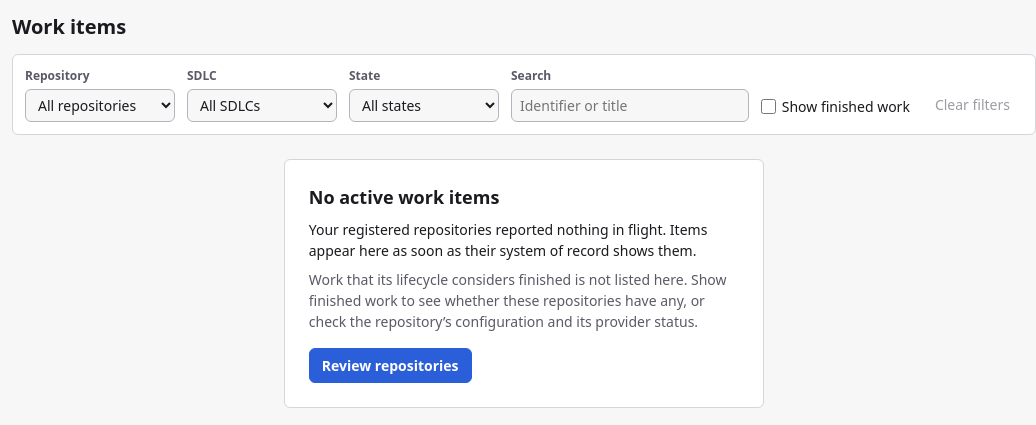
Test: the item list › tells an engineer whose work has all finished that nothing is in flight, rather than that nothing is here
Check: the heading "No active work items" is shown, box [309, 185, 499, 209]
Check: the text "nothing in flight" is shown, box [309, 220, 707, 260]
Click the checkbox labelled "Show finished work".
click(768, 106)  # box [761, 99, 776, 114]
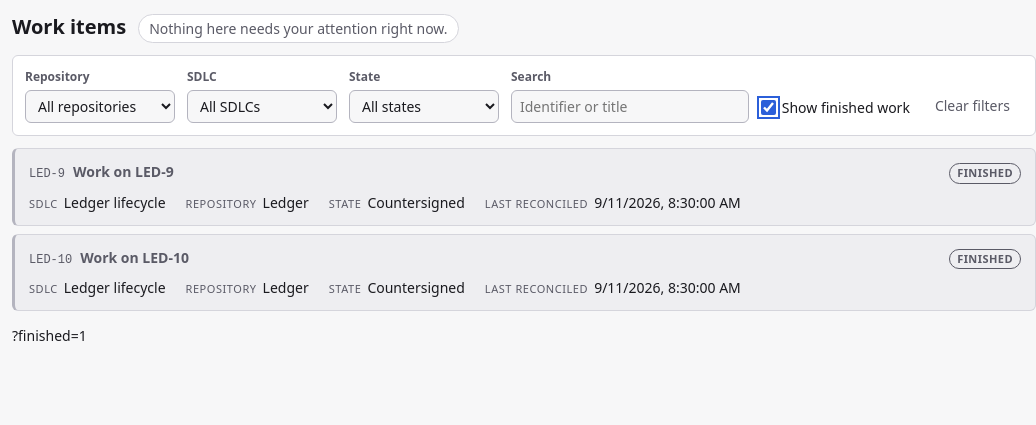
Check: the text "LED-9" is shown, box [29, 165, 65, 183]
